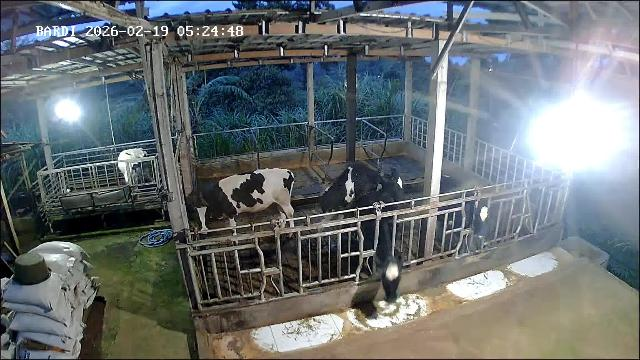mounting: (321, 162, 403, 251)
